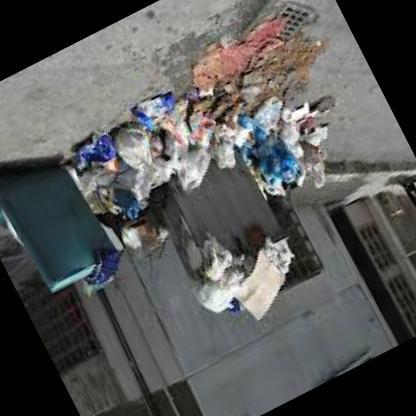Garbage: (190, 240, 312, 338), (243, 70, 333, 160), (242, 128, 314, 209), (102, 106, 160, 178), (211, 93, 271, 153), (192, 264, 250, 320), (144, 115, 200, 172), (76, 242, 132, 296), (166, 142, 218, 200), (66, 126, 124, 178), (92, 172, 142, 226), (122, 80, 174, 127), (130, 150, 175, 198), (195, 236, 240, 284), (256, 145, 301, 191), (296, 138, 334, 190), (292, 92, 338, 132), (186, 105, 219, 147), (235, 221, 271, 256), (214, 108, 246, 142), (158, 109, 190, 143), (210, 137, 239, 174), (255, 96, 286, 130), (267, 242, 298, 274), (280, 119, 302, 145), (226, 233, 245, 260)
